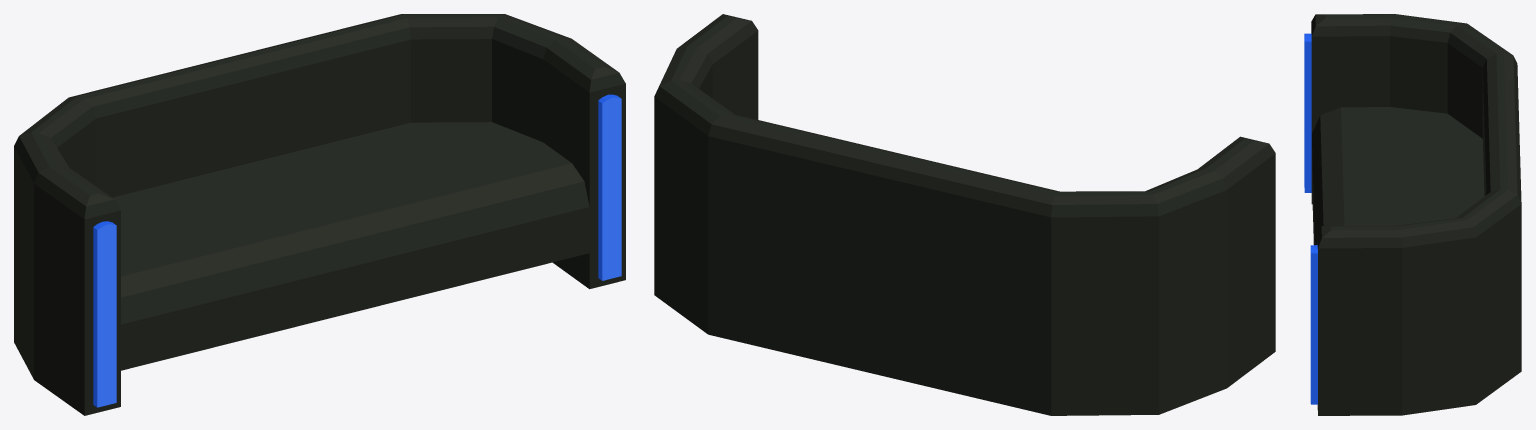
Rendered from Sofa_Black.glb.
3 views of the same model, side by side, from view 1: azimuth 30°, elevation 25°; view 2: azimuth 150°, elevation 25°; view 3: azimuth 270°, elevation 25° (orthographic). The views are drawn at different scales.
Visible parts, largest first — view 1: Sofa_Black; view 2: Sofa_Black; view 3: Sofa_Black.
Boxes of the visible parts, box(x1,y1,x2,y2) form: Sofa_Black: box(14, 14, 625, 415); Sofa_Black: box(654, 14, 1275, 415); Sofa_Black: box(1304, 14, 1521, 415).
Size of what is drawn, in the model's own units: 3.1 by 1.15 by 1.25.
Materials: 1 (1 with a texture image).
